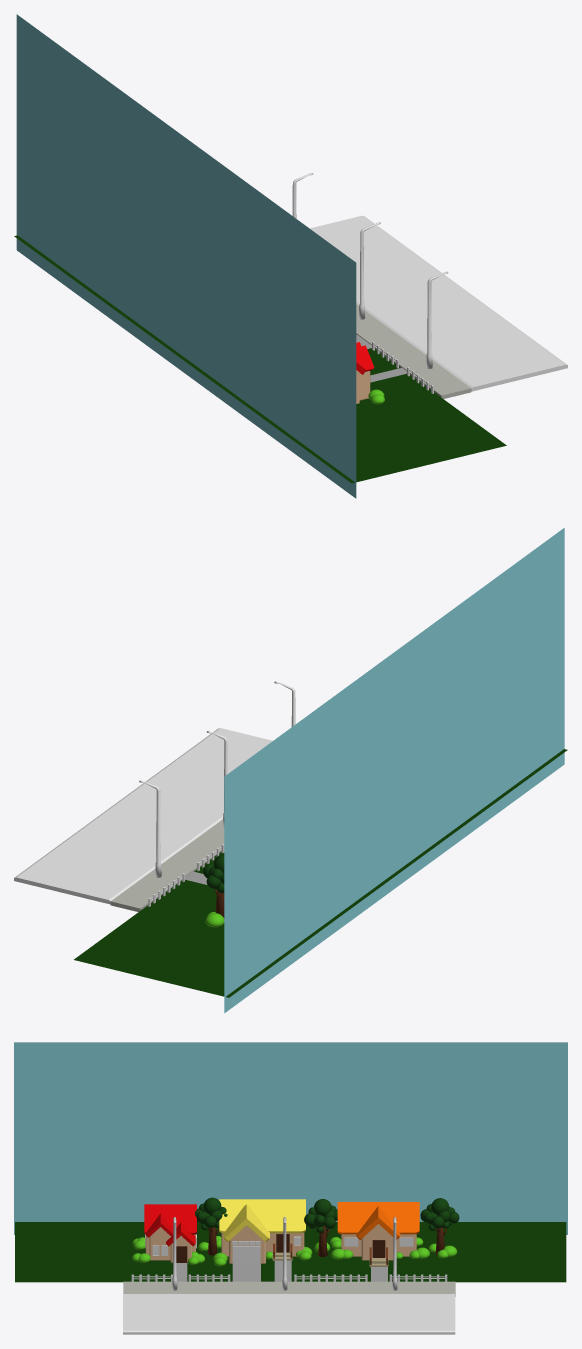
Rendered from houses.fbx.
The picture shows the model from 3 angles, top to bottom: view 1: azimuth 30°, elevation 25°; view 2: azimuth 150°, elevation 25°; view 3: azimuth 270°, elevation 25°; orthographic projection. The views are drawn at different scales.
Visible parts, largest first — view 1: Plane.003, Cube.054, Plane.002, Cube.053; view 2: Plane.003, Cube.054, Plane.002, Cube.053; view 3: Plane.003, Plane.002, Cube.054, Cube.053, Cube.009, Cube.027, Cube.003, Cube.011, Cube.026, Cube.029, Cube.028, Cube.008 (+4 smaller).
Part boxes in pixels (x1,y1,x2,y2): Plane.003: (16, 14, 356, 498); Cube.054: (310, 215, 567, 391); Plane.002: (14, 235, 506, 483); Cube.053: (356, 304, 471, 398); Plane.003: (224, 528, 564, 1013); Cube.054: (14, 728, 272, 904); Plane.002: (74, 749, 567, 997); Cube.053: (110, 819, 224, 911); Plane.003: (14, 1042, 567, 1234); Plane.002: (15, 1222, 566, 1282); Cube.054: (123, 1293, 455, 1334); Cube.053: (123, 1281, 455, 1296); Cube.009: (219, 1199, 305, 1233); Cube.027: (337, 1202, 419, 1234); Cube.003: (144, 1204, 196, 1234); Cube.011: (223, 1204, 269, 1241); Cube.026: (361, 1224, 396, 1260); Cube.029: (356, 1206, 400, 1239); Cube.028: (341, 1234, 416, 1256); Cube.008: (229, 1225, 265, 1263).
Size of the model in its own units: 3143 by 2512 by 6543.
